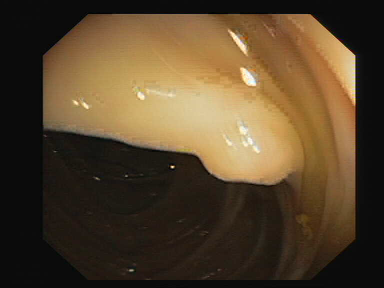polyp: (133, 66, 326, 197)
